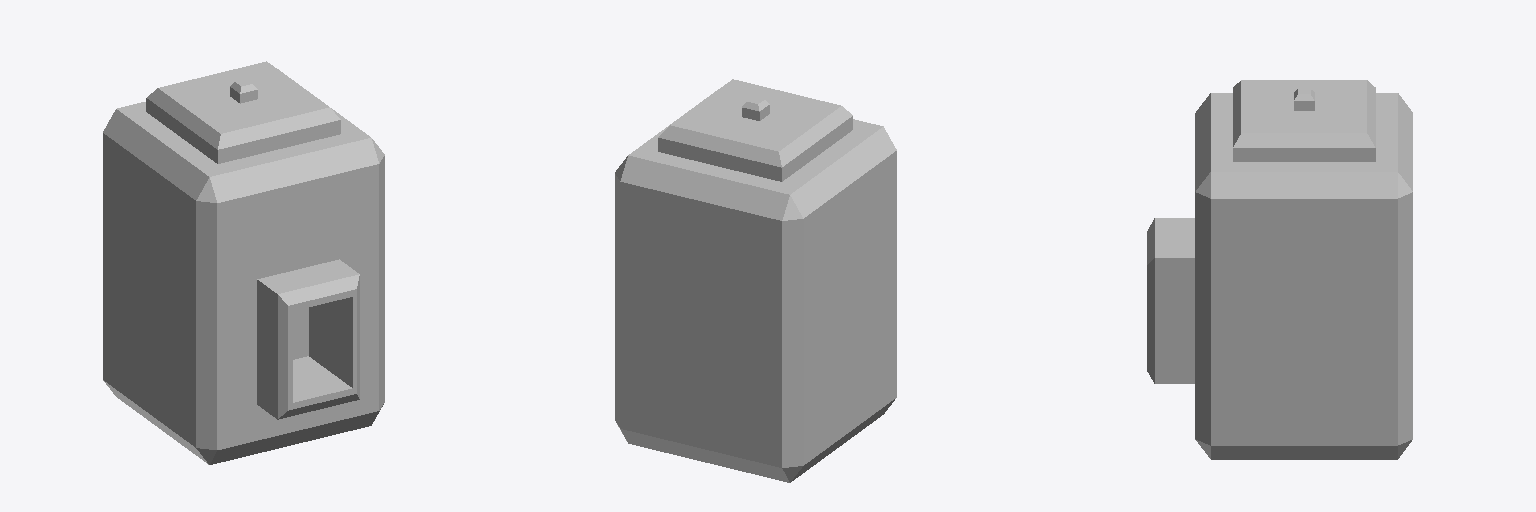
File: Player.obj
The picture shows the model from 3 angles: view 1: azimuth 30°, elevation 25°; view 2: azimuth 150°, elevation 25°; view 3: azimuth 270°, elevation 25°; orthographic projection.
Parts seen in each view (by area): view 1: Cube.001; view 2: Cube.001; view 3: Cube.001.
Boxes of the visible parts, box(x1,y1,x2,y2) form: Cube.001: box(103, 61, 384, 464); Cube.001: box(615, 79, 896, 482); Cube.001: box(1147, 80, 1412, 459).
Bounding box in the file's own units: 1.2 × 1.99 × 1.47.